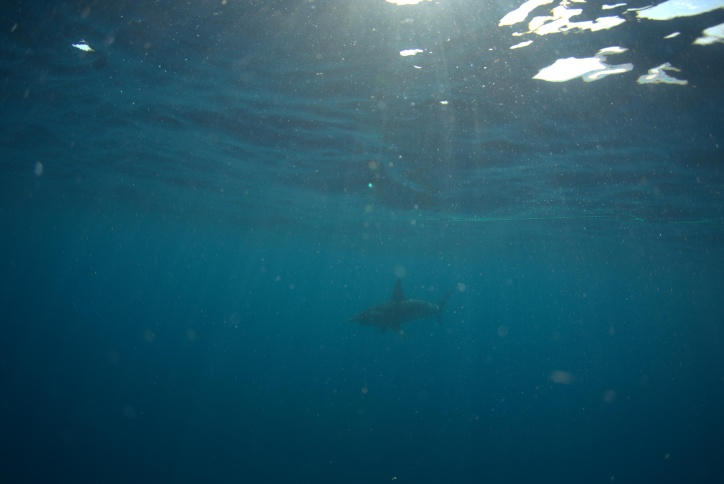Hammer: (338, 261, 479, 356)
